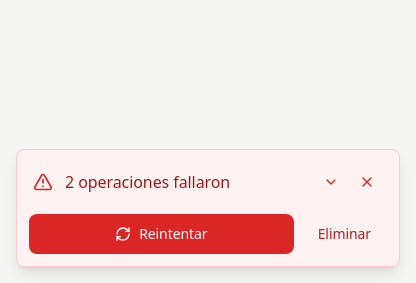
Test: SyncStatusBanner › Sincronizar sin el regalo › el botón aparece sólo en la operación con la marca
Expected: the message "2 operaciones fallaron Reintentar Eliminar" is shown, [16,149,400,267]
Click the button named "Expandir detalles" at [331, 182], box [315,166,347,198]
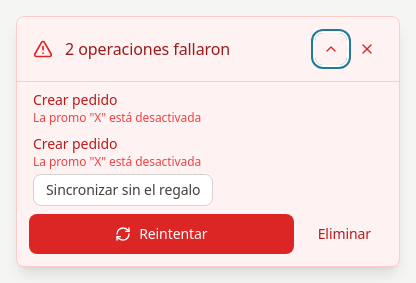
Result: the number of buttons "Sincronizar sin el regalo" is 1 at [33,174,214,206]
